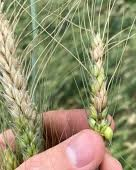Wheat scab: (80, 37, 112, 131)
